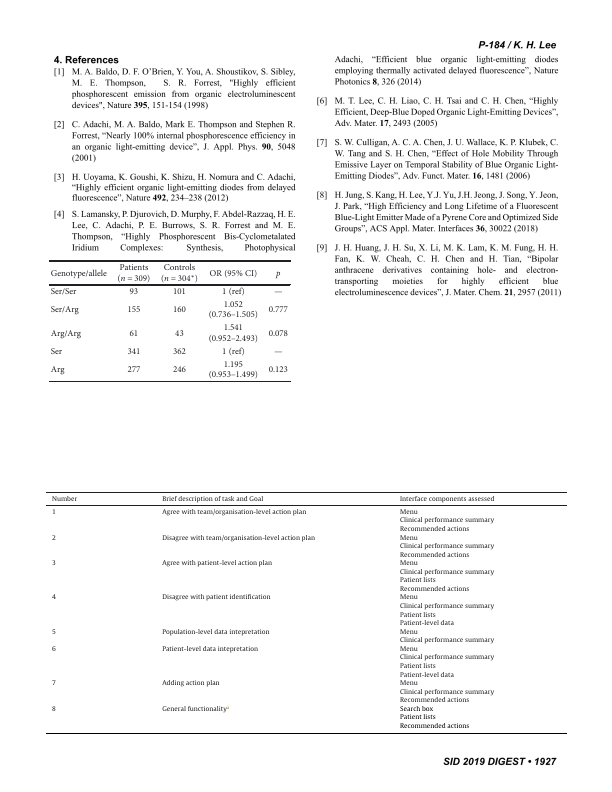borderless: (45, 491, 567, 733), (49, 259, 291, 382)
cell: (398, 560, 494, 594), (398, 594, 494, 628), (398, 646, 494, 680), (398, 534, 494, 560), (398, 509, 494, 534), (398, 680, 494, 705), (398, 706, 470, 731), (398, 628, 494, 645), (161, 534, 315, 543), (161, 509, 307, 517), (207, 300, 258, 321), (207, 323, 258, 344), (207, 360, 258, 381), (161, 594, 271, 603), (161, 628, 270, 637), (161, 495, 264, 504), (161, 560, 272, 568), (398, 495, 495, 504), (160, 263, 199, 284), (161, 646, 258, 654), (116, 263, 151, 284), (49, 268, 107, 279), (161, 705, 230, 714), (208, 268, 258, 279), (161, 680, 220, 688), (49, 328, 82, 339), (49, 305, 79, 315), (49, 287, 77, 297), (50, 495, 78, 504), (221, 287, 245, 297), (221, 347, 245, 357), (267, 328, 288, 339), (267, 365, 288, 376), (267, 305, 288, 315), (49, 365, 65, 376), (126, 365, 141, 376), (172, 365, 187, 376), (172, 287, 187, 297), (126, 305, 141, 315), (172, 305, 187, 315), (126, 347, 141, 357), (172, 347, 187, 357), (49, 347, 63, 357), (128, 328, 139, 339), (128, 287, 139, 297), (174, 328, 184, 339), (275, 270, 281, 279), (50, 534, 56, 543), (50, 594, 56, 603), (50, 628, 56, 637), (50, 509, 56, 517), (50, 560, 56, 568), (50, 646, 56, 654), (50, 680, 56, 688), (50, 706, 56, 714), (273, 291, 283, 295), (273, 351, 283, 355)
